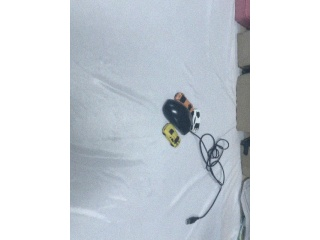mouse: (162, 99, 193, 135)
toy_car: (162, 123, 181, 148), (174, 92, 194, 112), (190, 108, 201, 133)
